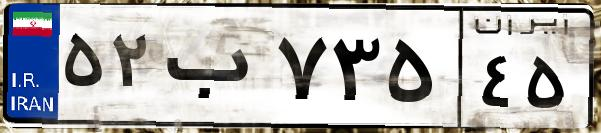2: (110, 28, 158, 98)
3: (330, 28, 385, 110)
4: (475, 38, 525, 113)
5: (385, 28, 445, 110), (57, 26, 110, 100), (525, 38, 570, 115)
7: (270, 28, 330, 110)
ب: (158, 20, 270, 120)
